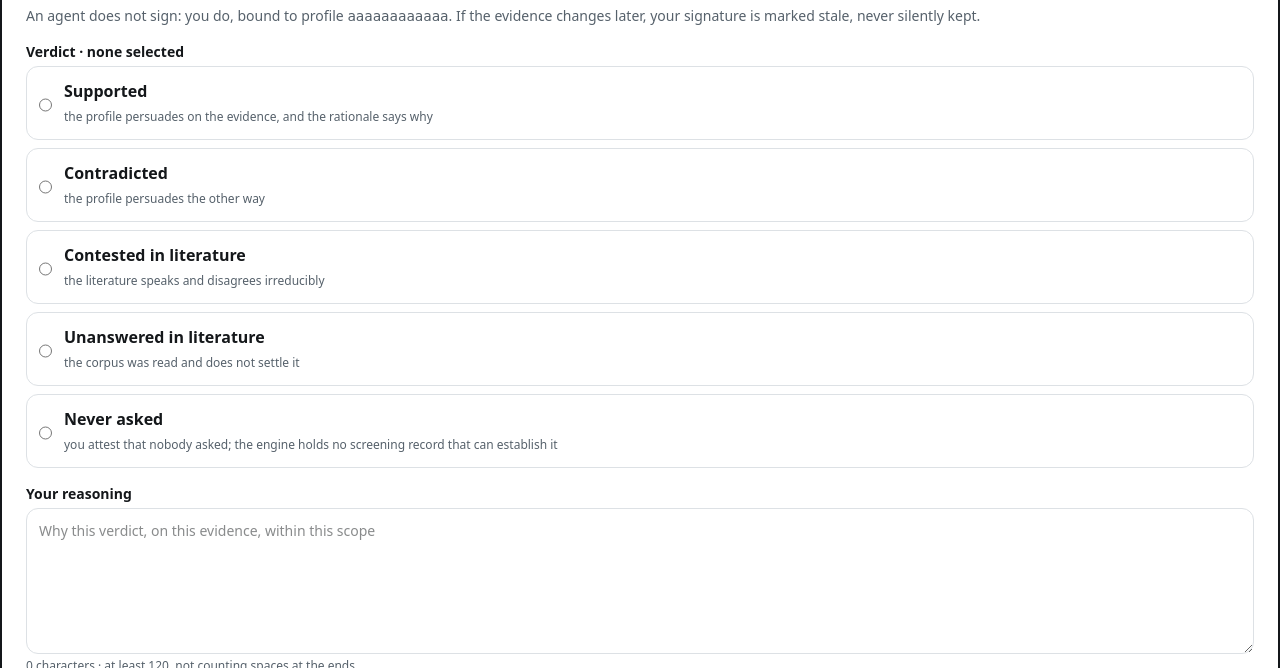
Test: F4.4: drafts › a failed save is named and the text stays
This screenshot has width=1280, height=668.
Type "abc" into the text box at x=640, y=581, box [26,508,1254,654]
(page scrolled)
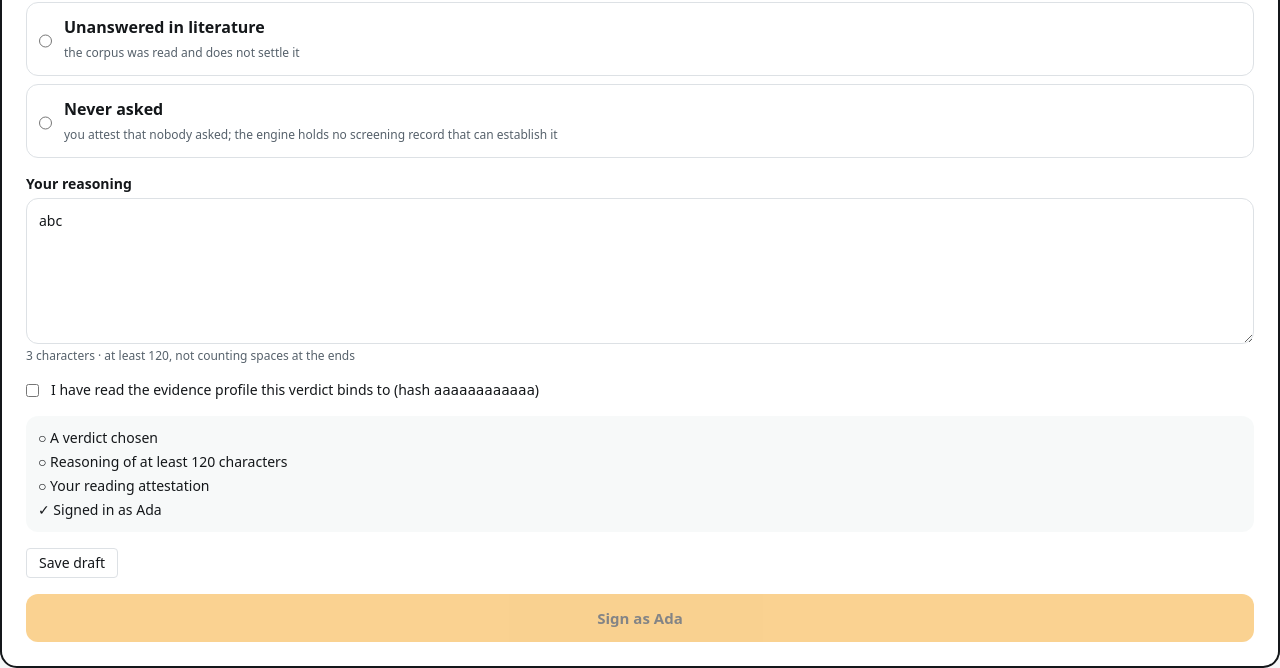
Click the button "Save draft" at x=72, y=563, box [26,548,118,578]
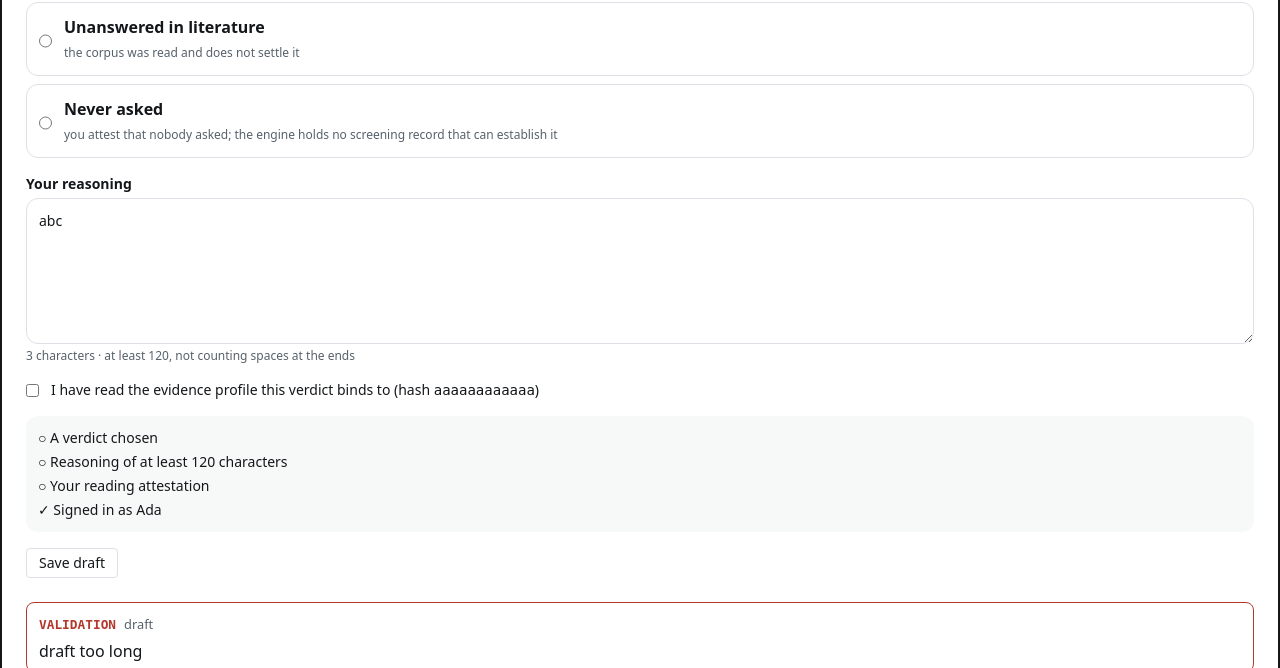
Expected: the text "draft too long" is shown, [39,640,142,662]
